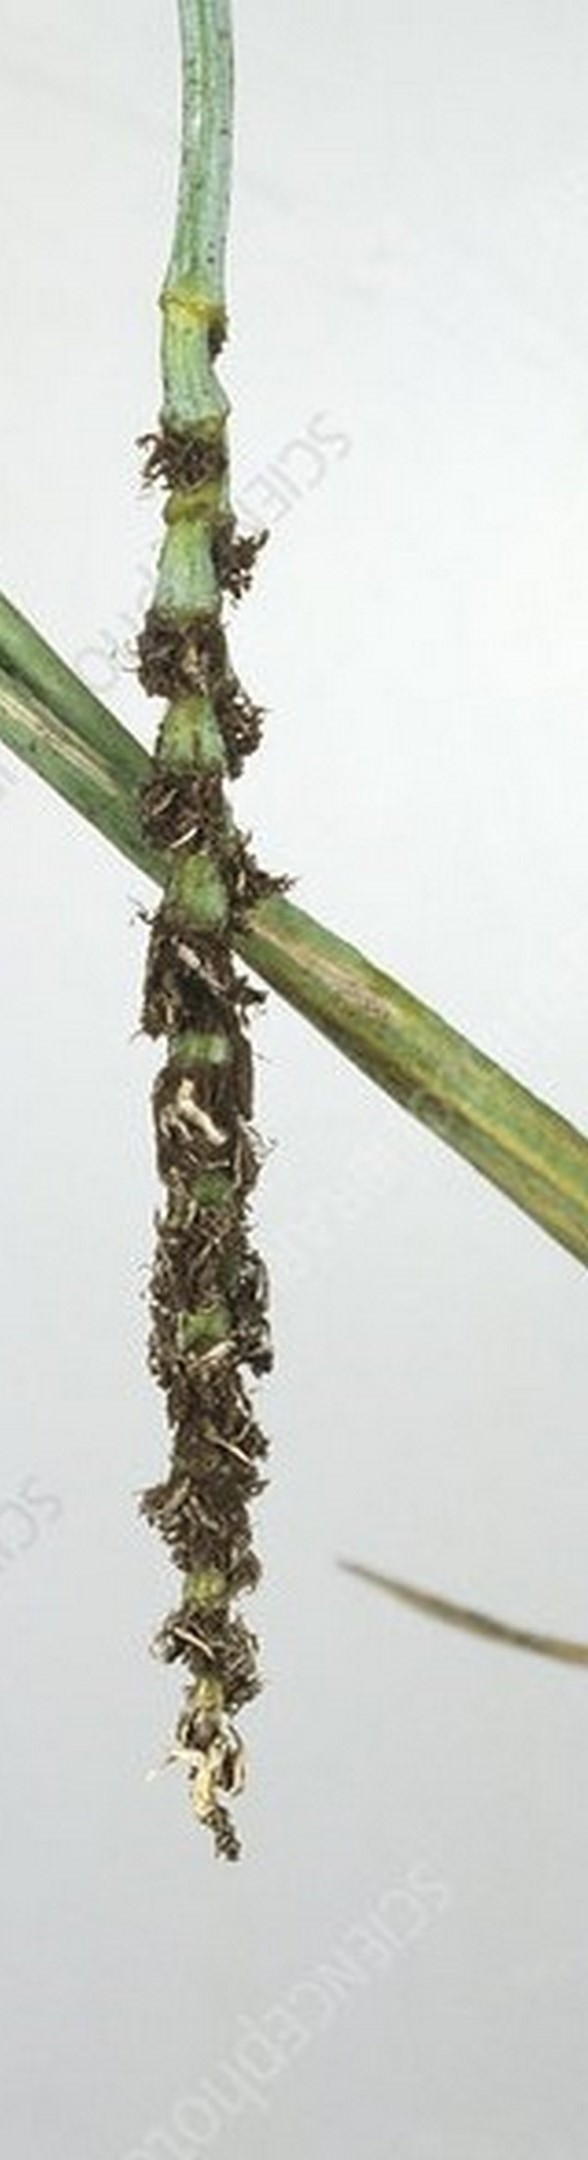Wheat Loose Smut: (107, 415, 330, 1803)
